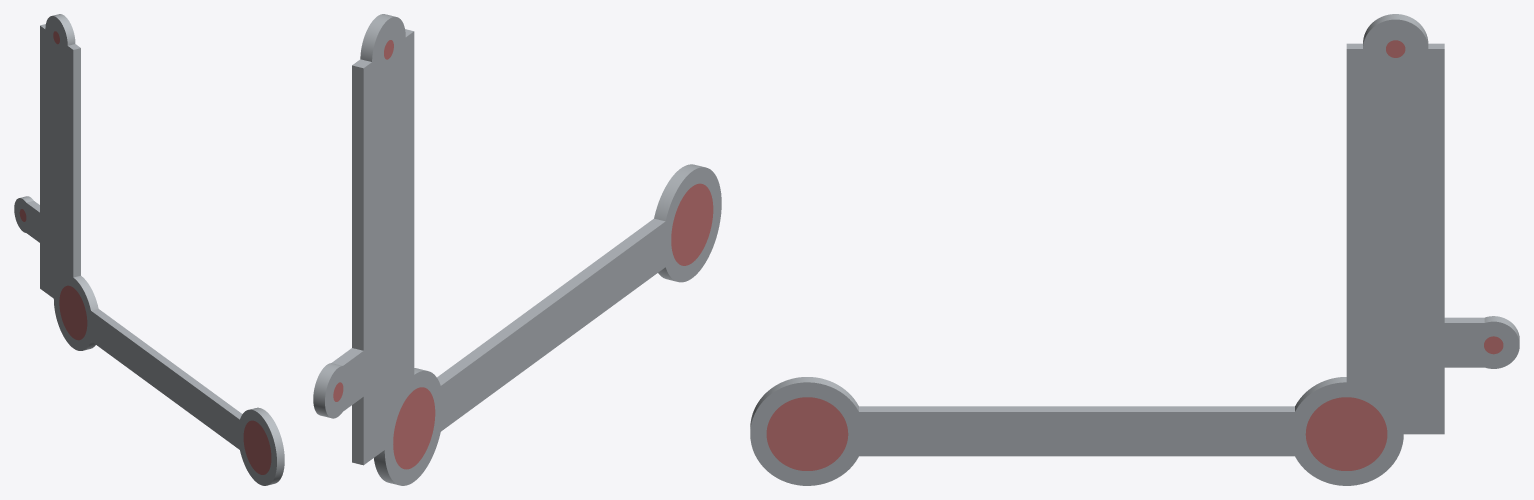
File: step_04.glb
The picture shows the model from 3 angles, left to right: view 1: azimuth 30°, elevation 25°; view 2: azimuth 150°, elevation 25°; view 3: azimuth 270°, elevation 25°; orthographic projection. The views are drawn at different scales.
Visible parts, largest first — view 1: part__spreader, removed__spreader; view 2: part__spreader, removed__spreader; view 3: part__spreader, removed__spreader.
Part boxes in pixels (bbox=[...]): part__spreader: bbox=[14, 14, 284, 485]; removed__spreader: bbox=[19, 31, 271, 474]; part__spreader: bbox=[313, 14, 721, 485]; removed__spreader: bbox=[333, 40, 713, 469]; part__spreader: bbox=[750, 14, 1519, 485]; removed__spreader: bbox=[766, 40, 1503, 470].
Bounding box in the file's own units: 8 × 315 × 471.
